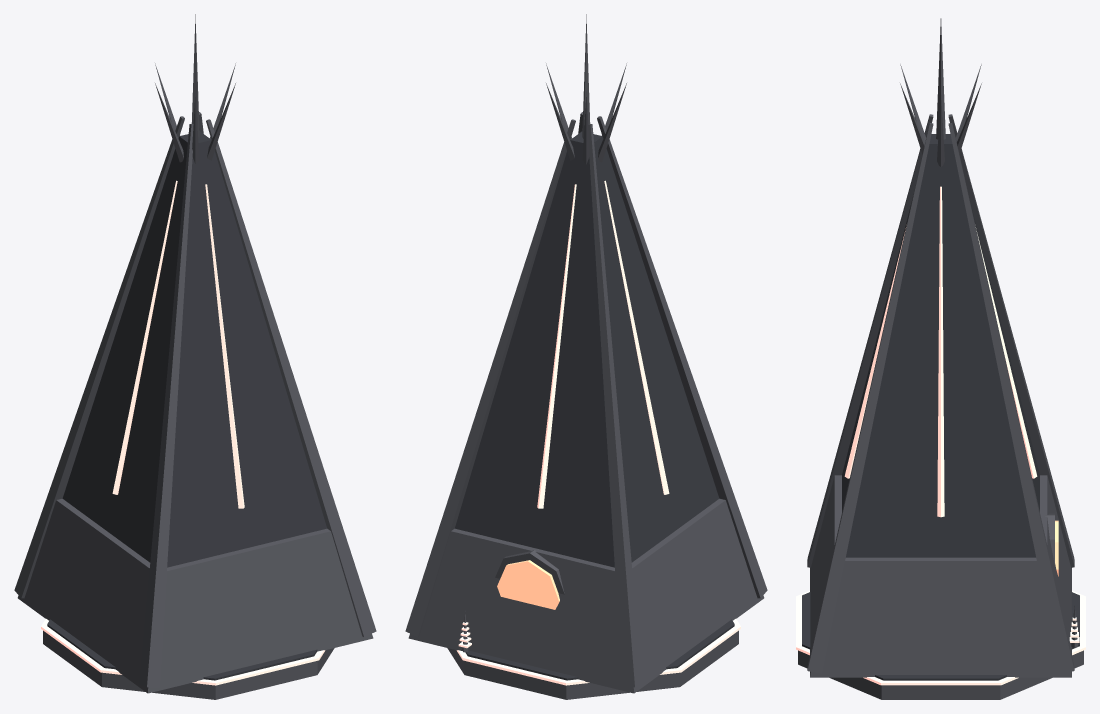
The model's file is zone_high_3_t5.glb.
The picture shows the model from 3 angles, left to right: view 1: azimuth 30°, elevation 25°; view 2: azimuth 150°, elevation 25°; view 3: azimuth 270°, elevation 25°; orthographic projection.
Visible parts, largest first — view 1: zone_high_3_t5; view 2: zone_high_3_t5; view 3: zone_high_3_t5.
Boxes of the visible parts, <box> form: zone_high_3_t5: <box>14,14,376,699</box>; zone_high_3_t5: <box>405,14,767,699</box>; zone_high_3_t5: <box>796,18,1085,699</box>.
Bounding box in the file's own units: 27.35 × 65.1 × 27.35.
